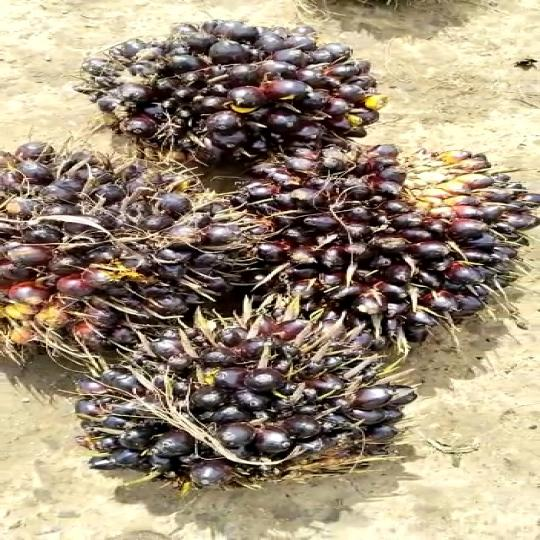mentah: (96, 278, 392, 518), (213, 140, 535, 345), (0, 138, 240, 360), (84, 13, 385, 172)
